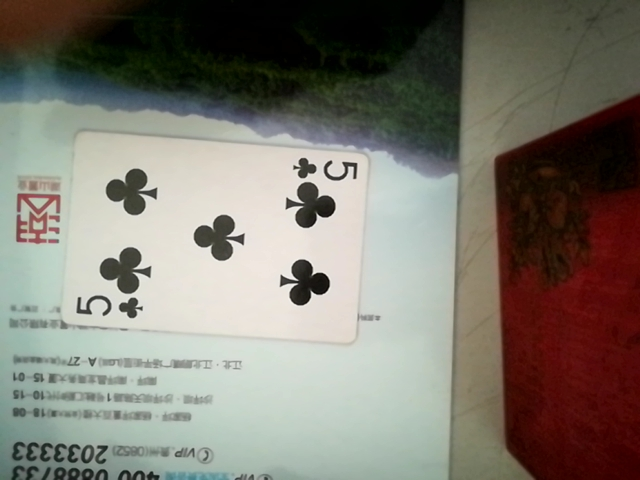mh 5: (43, 137, 368, 345)
